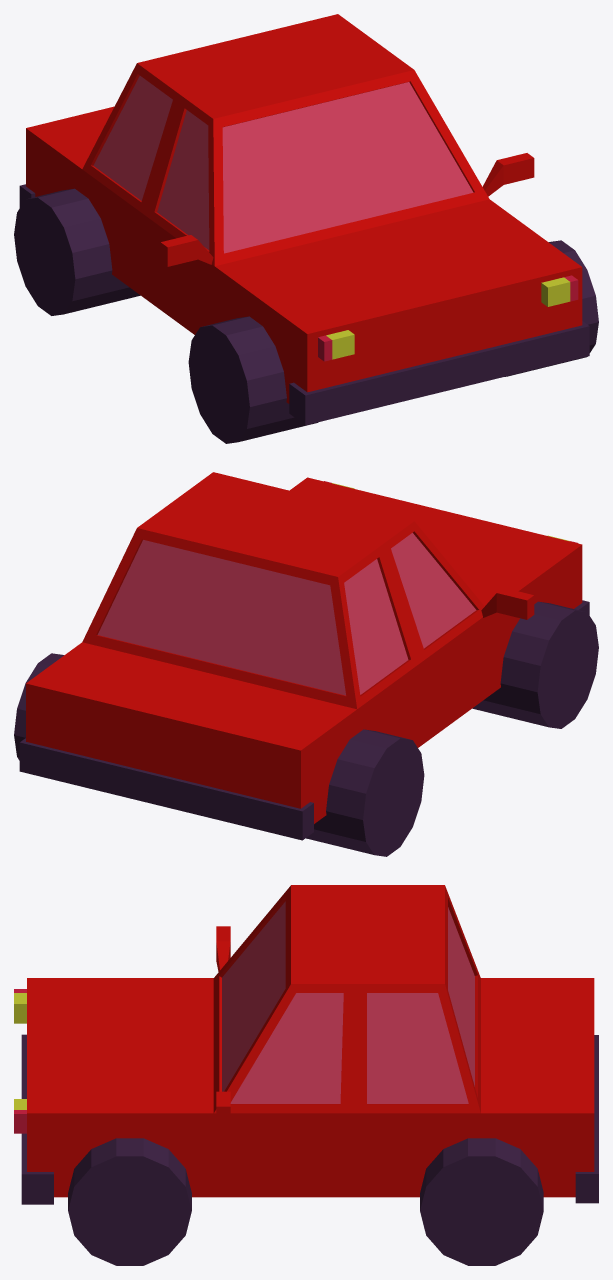
Rendered from car.obj.
3 renders of one model, top to bottom at view 1: azimuth 30°, elevation 25°; view 2: azimuth 150°, elevation 25°; view 3: azimuth 270°, elevation 25°, orthographic.
Visible parts, largest first — view 1: Cube, Cylinder, Cylinder.002, Cube.002, Cube.001; view 2: Cube, Cylinder.002, Cylinder, Cube.002; view 3: Cube, Cylinder, Cylinder.002, Cube.002, Cube.001.
Boxes of the visible parts, bbox=[...] form: Cube: bbox=[19, 14, 589, 425]; Cylinder: bbox=[188, 240, 598, 443]; Cylinder.002: bbox=[14, 188, 140, 315]; Cube.002: bbox=[160, 153, 534, 266]; Cube.001: bbox=[318, 275, 578, 361]; Cube: bbox=[19, 472, 589, 840]; Cylinder.002: bbox=[14, 653, 424, 856]; Cylinder: bbox=[472, 601, 598, 728]; Cube.002: bbox=[481, 588, 534, 619]; Cube: bbox=[21, 885, 598, 1204]; Cylinder: bbox=[68, 1138, 191, 1265]; Cylinder.002: bbox=[420, 1138, 543, 1265]; Cube.002: bbox=[216, 926, 230, 1126]; Cube.001: bbox=[14, 989, 26, 1133].
Size of what is drawn, in the model's own units: 12.83 by 8.14 by 17.59.
